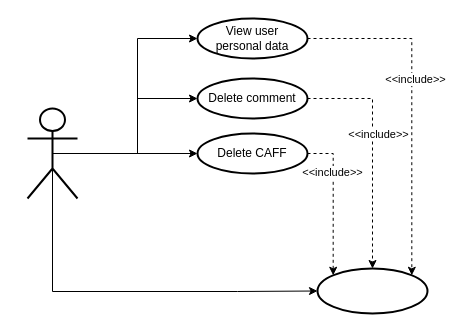
Image size: 463x331. Some labels were removed from this diagram. The centre of each missing label's shape, as x and y in pixels:
Administrator: [52,153]
Login: [372,290]
